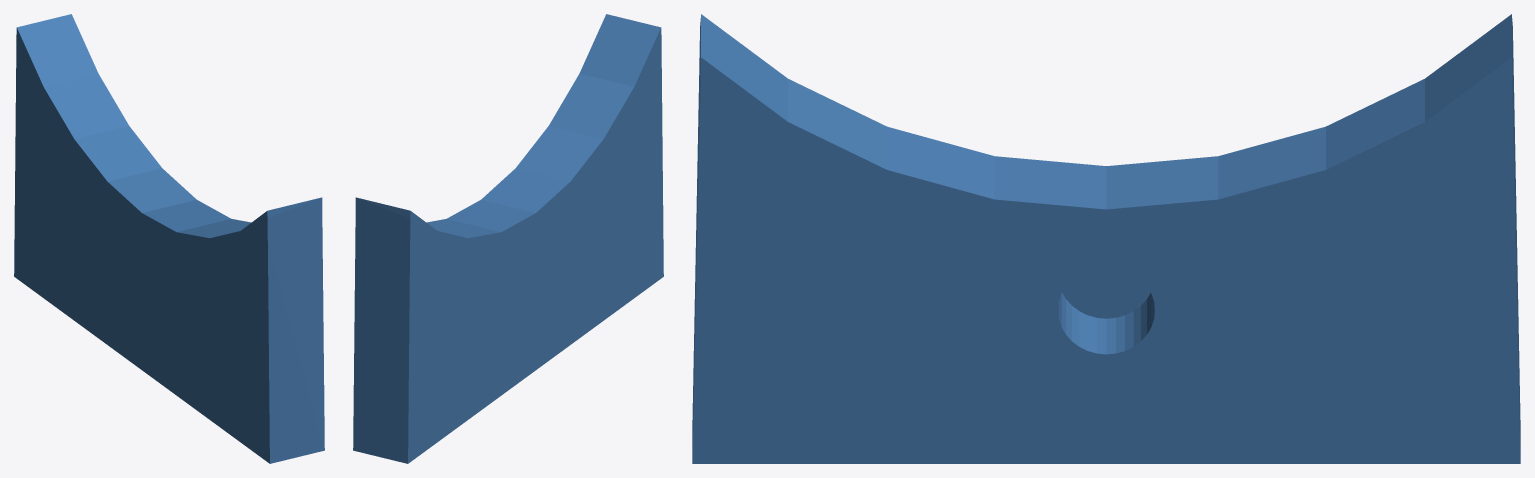
File: VIS_WristSlider1.dae
3 renders of one model, left to right at view 1: azimuth 30°, elevation 25°; view 2: azimuth 150°, elevation 25°; view 3: azimuth 270°, elevation 25°, orthographic. The views are drawn at different scales.
Parts seen in each view (by area): view 1: VIS_WristSlider1; view 2: VIS_WristSlider1; view 3: VIS_WristSlider1.
Part boxes in pixels (bbox=[...]): VIS_WristSlider1: bbox=[14, 14, 324, 463]; VIS_WristSlider1: bbox=[353, 14, 663, 463]; VIS_WristSlider1: bbox=[692, 14, 1520, 463].
Bounding box in the file's own units: 0.00799 × 0.0645 × 0.035.
